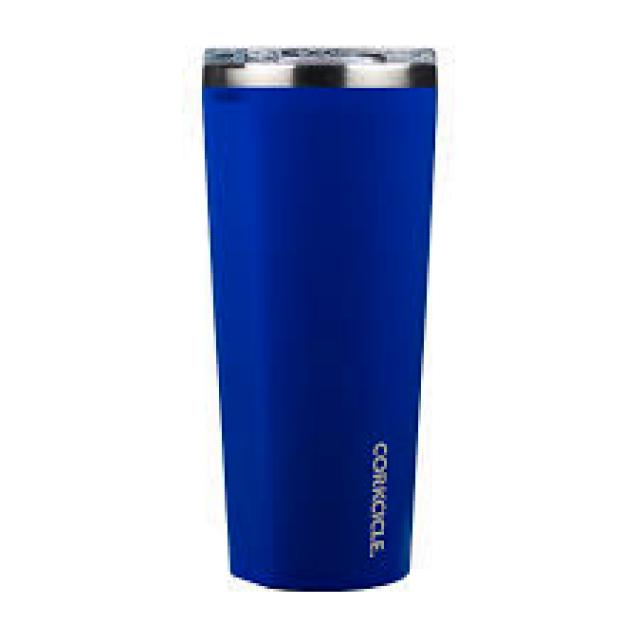bottle: (200, 46, 438, 592)
